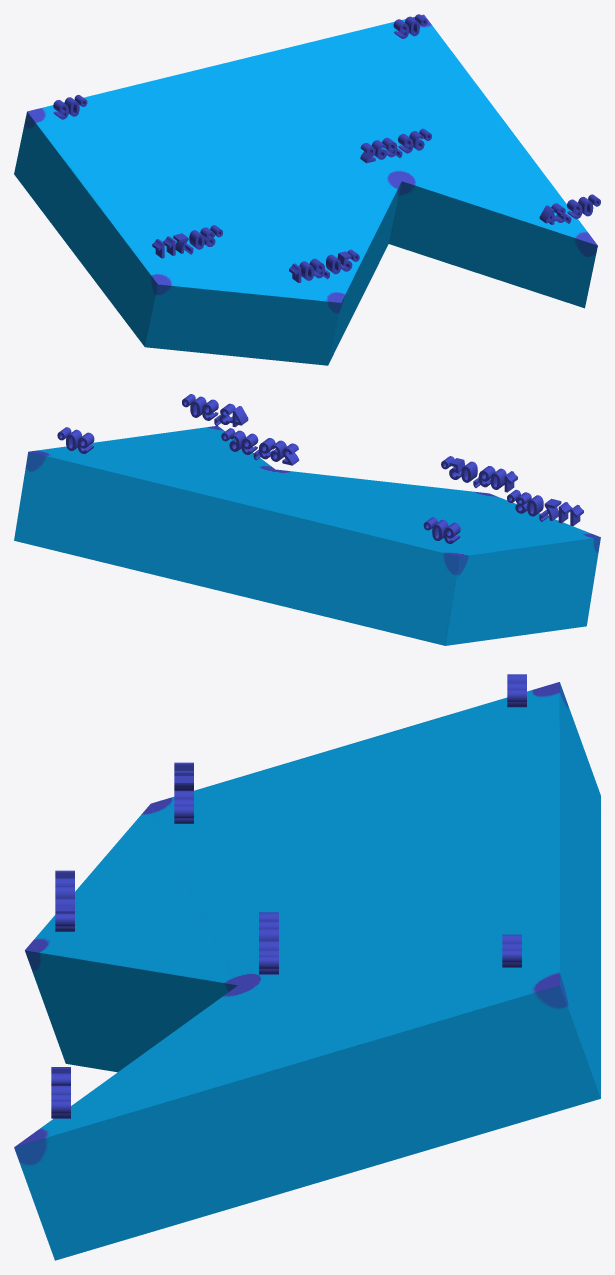
File: pergunta26Obj.fbx
The picture shows the model from 3 angles, top to bottom: view 1: azimuth 30°, elevation 25°; view 2: azimuth 150°, elevation 25°; view 3: azimuth 270°, elevation 25°; orthographic projection. The views are drawn at different scales.
Visible parts, largest first — view 1: root, node_id63, node_id56, node_id49, node_id71, node_id34, node_id44; view 2: root, node_id63, node_id56, node_id49, node_id71, node_id34, node_id44; view 3: root, node_id63, node_id49, node_id56, node_id71.
Boxes of the visible parts, x1,y1,x2,y2 form: root: (14, 14, 597, 365); node_id63: (360, 128, 431, 163); node_id56: (289, 249, 359, 282); node_id49: (152, 225, 222, 258); node_id71: (539, 194, 600, 224); node_id34: (53, 94, 87, 119); node_id44: (393, 14, 427, 38); root: (14, 425, 600, 645); node_id63: (221, 428, 299, 465); node_id56: (441, 456, 517, 492); node_id49: (507, 489, 583, 525); node_id71: (182, 394, 248, 427); node_id34: (423, 517, 460, 543); node_id44: (57, 427, 94, 453); root: (14, 682, 600, 1260); node_id63: (259, 912, 278, 974); node_id49: (174, 762, 193, 823); node_id56: (55, 870, 74, 931); node_id71: (51, 1067, 70, 1118).
Bounding box in the file's own units: 0.5654 × 0.2498 × 0.4457.
6 materials, 1 textured.
